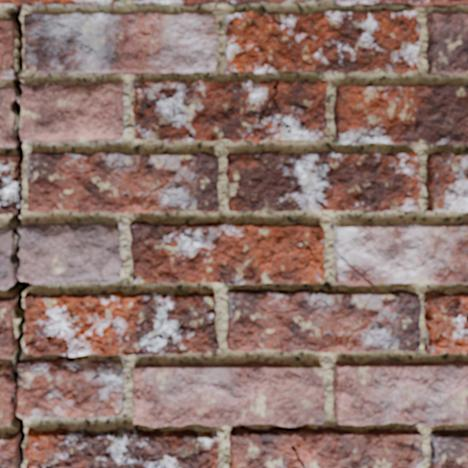brick: (133, 362, 423, 467), (226, 289, 420, 352), (225, 10, 419, 73), (25, 292, 218, 355), (130, 222, 324, 283), (133, 81, 327, 142), (227, 151, 421, 211), (28, 151, 218, 212), (24, 13, 217, 73), (333, 360, 467, 425), (334, 223, 467, 283), (334, 85, 467, 144), (25, 429, 218, 467), (425, 292, 467, 353), (426, 13, 467, 75), (426, 152, 467, 211), (431, 430, 467, 467), (0, 155, 18, 213), (335, 254, 368, 284), (334, 0, 467, 7), (135, 0, 320, 5), (0, 297, 14, 357), (0, 21, 14, 79), (0, 433, 18, 467)
broken_brick: (18, 356, 124, 420), (19, 223, 121, 284), (20, 83, 123, 143), (0, 87, 14, 148), (0, 364, 12, 425), (0, 0, 120, 6), (0, 231, 12, 290)
crack: (0, 2, 32, 467), (256, 80, 291, 133), (290, 229, 324, 267), (335, 251, 372, 285), (370, 152, 398, 190), (290, 444, 305, 467)
